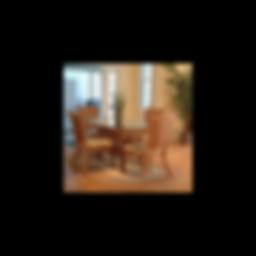Matera: (172, 75, 192, 142), (108, 95, 125, 125)
Puerta: (63, 79, 75, 130)
